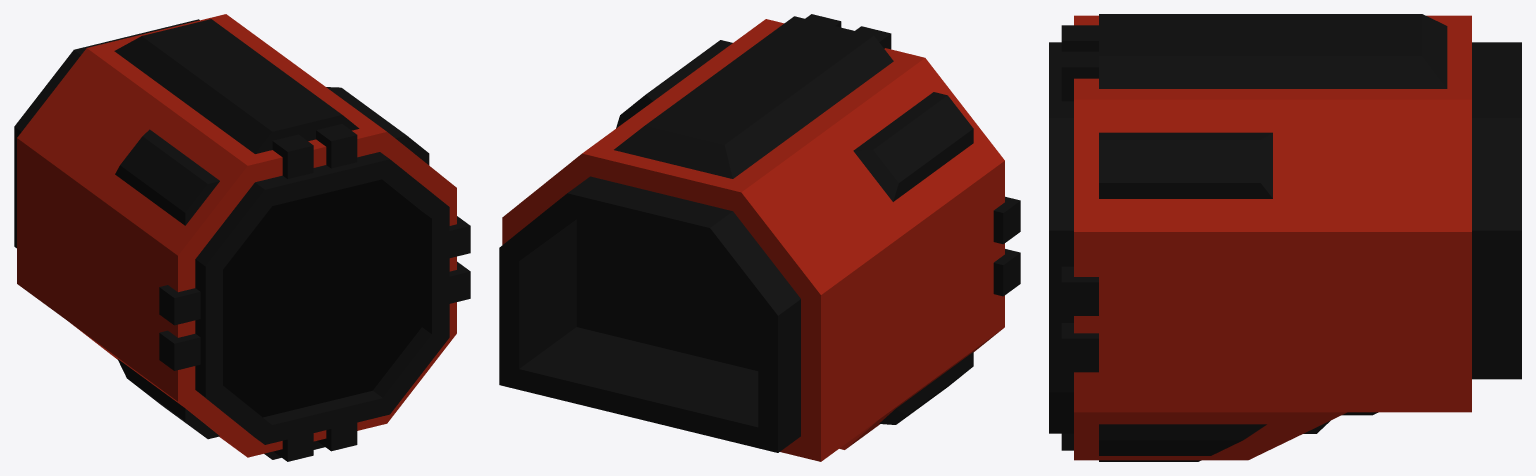
The model's file is Body.FBX.
The picture shows the model from 3 angles, left to right: view 1: azimuth 30°, elevation 25°; view 2: azimuth 150°, elevation 25°; view 3: azimuth 270°, elevation 25°; orthographic projection. The views are drawn at different scales.
Parts seen in each view (by area): view 1: Body; view 2: Body; view 3: Body.
Part boxes in pixels (bbox=[...]): Body: bbox=[14, 14, 470, 461]; Body: bbox=[499, 14, 1020, 461]; Body: bbox=[1049, 14, 1521, 461].
Bounding box in the file's own units: 17 × 18 × 19.
